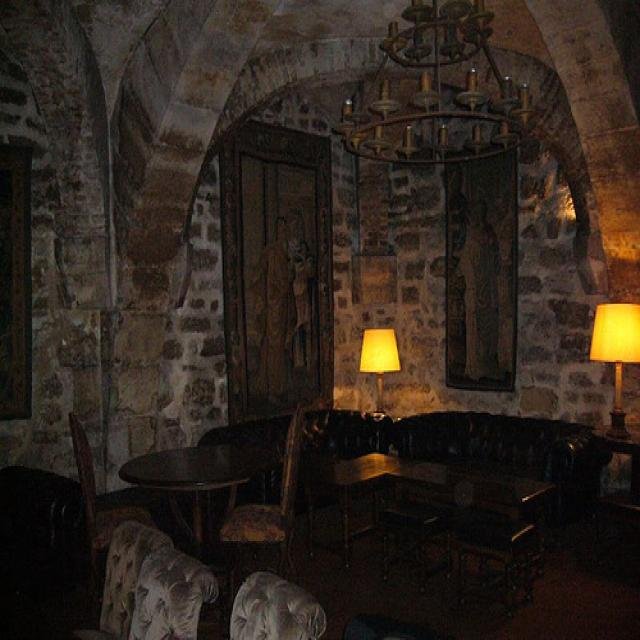Table: (347, 435, 559, 614), (116, 426, 242, 561), (594, 400, 640, 549)
chair: (386, 376, 593, 586), (52, 399, 152, 574), (110, 529, 218, 640), (99, 507, 166, 640), (226, 559, 336, 640)
